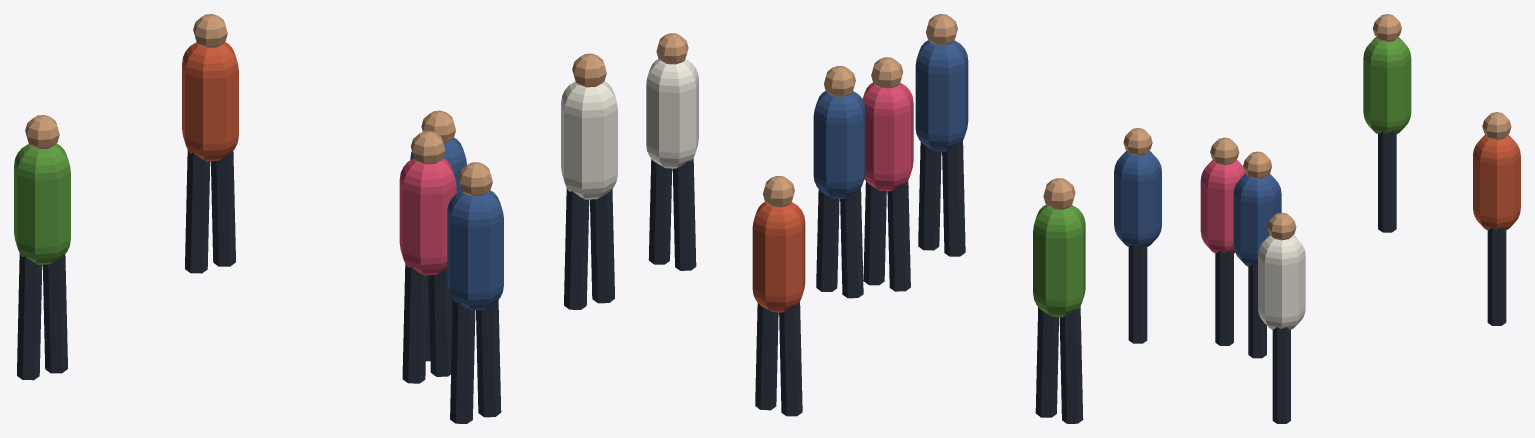
Rendered from people_street.glb.
3 renders of one model, left to right at view 1: azimuth 30°, elevation 25°; view 2: azimuth 150°, elevation 25°; view 3: azimuth 270°, elevation 25°, orthographic. The views are drawn at different scales.
Parts seen in each view (by area): view 1: people; view 2: people; view 3: people.
Part boxes in pixels (x1,y1,x2,y2): people: [14, 14, 617, 423]; people: [646, 14, 1085, 423]; people: [1114, 14, 1520, 423].
Size of the model in its own units: 3.76 by 1.73 by 3.06.
